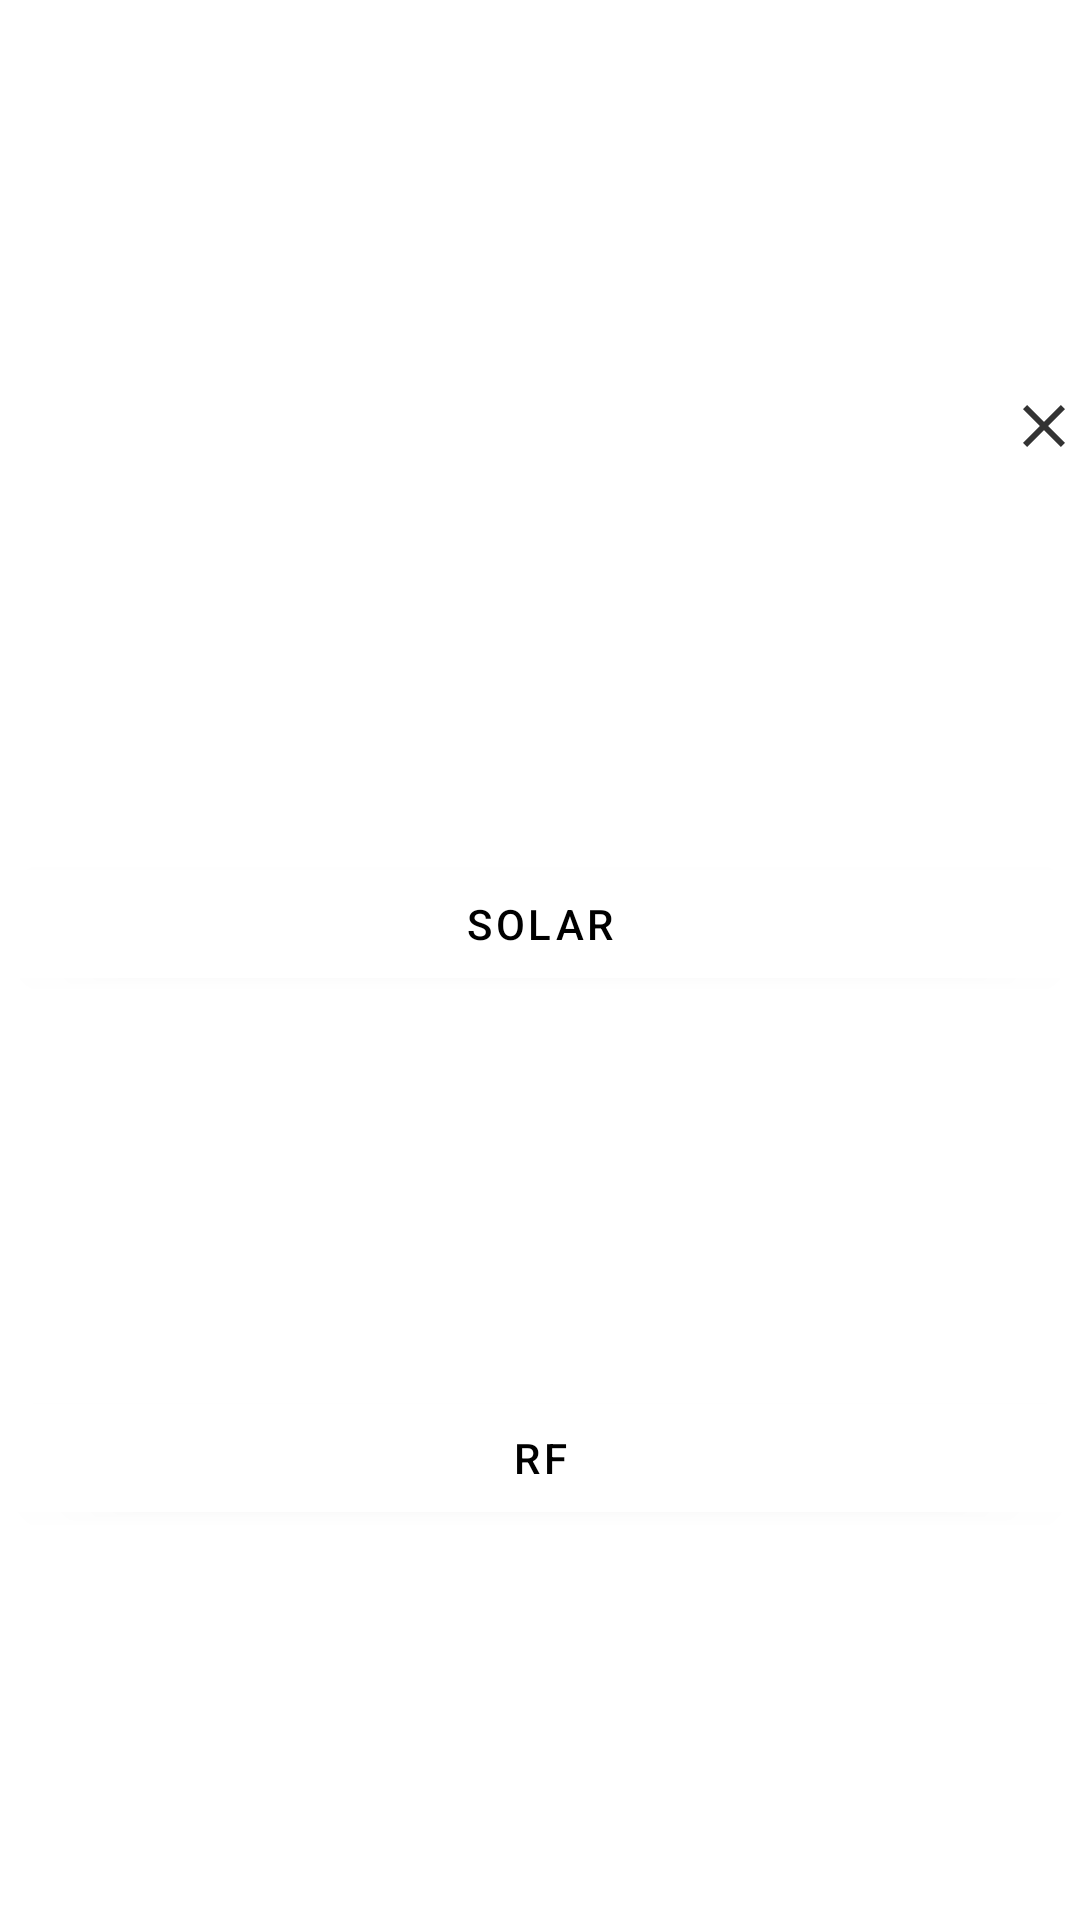

Icons on this 1080 × 1920 Android screen, each with its box as (x1, y1, x2, y2):
close: (1023, 405, 1065, 447)
